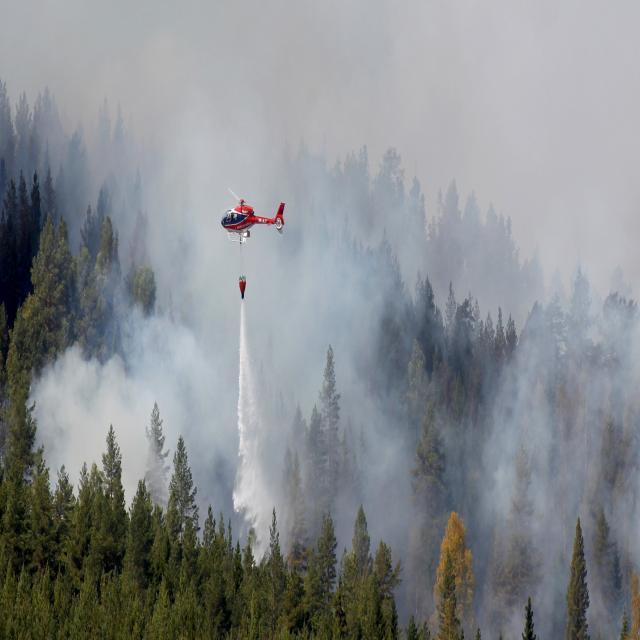Smoke: (2, 2, 638, 637)
